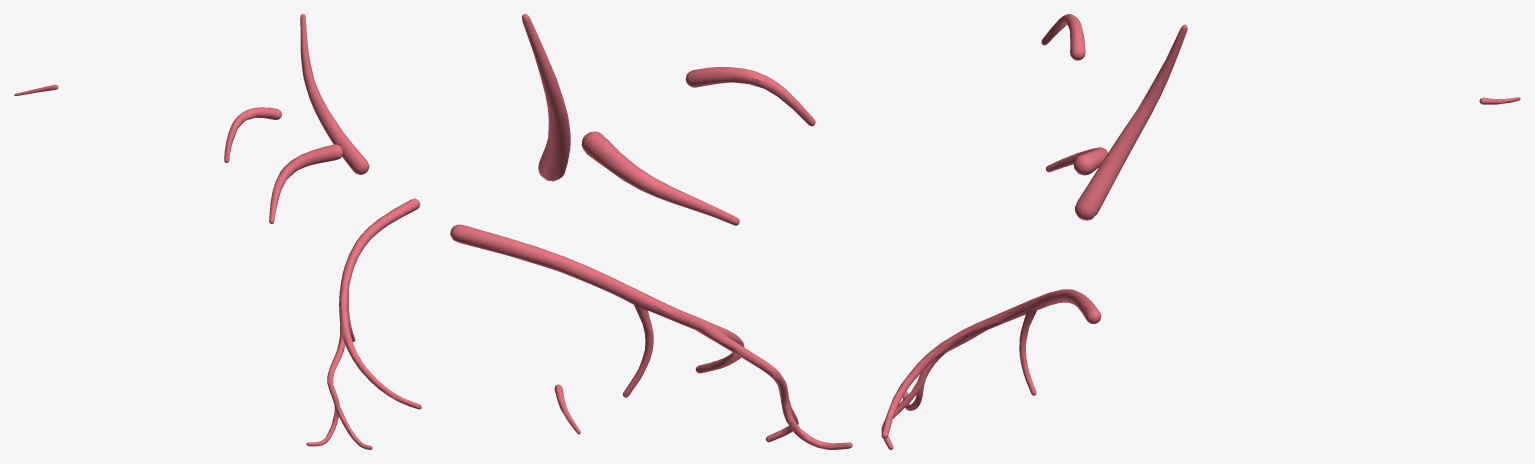
Rendered from fma15421_fj3074.glb.
3 views of the same model, side by side, from view 1: azimuth 30°, elevation 25°; view 2: azimuth 150°, elevation 25°; view 3: azimuth 270°, elevation 25° (orthographic). The views are drawn at different scales.
Parts seen in each view (by area): view 1: FMA15421_FJ3074; view 2: FMA15421_FJ3074; view 3: FMA15421_FJ3074.
Part boxes in pixels (x1,y1,x2,y2): FMA15421_FJ3074: [14, 14, 421, 449]; FMA15421_FJ3074: [450, 14, 852, 449]; FMA15421_FJ3074: [881, 14, 1520, 449].
Size of the model in its own units: 0.0517 by 0.0696 by 0.089.
